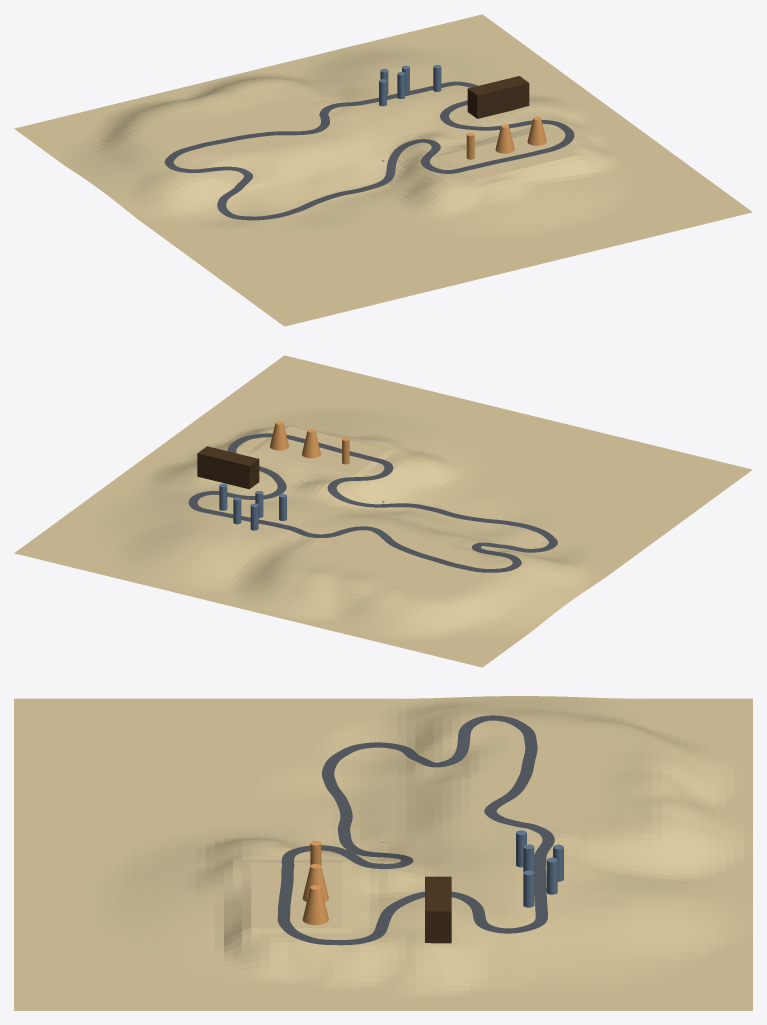
File: bikini_bottom_test_track.glb
The picture shows the model from 3 angles, top to bottom: view 1: azimuth 30°, elevation 25°; view 2: azimuth 150°, elevation 25°; view 3: azimuth 270°, elevation 25°; orthographic projection. The views are drawn at different scales.
Parts seen in each view (by area): view 1: Seabed, BikiniBottom_test_v1, Krusty Krab; view 2: Seabed, BikiniBottom_test_v1, Krusty Krab; view 3: Seabed, BikiniBottom_test_v1, Krusty Krab, House 3.
Boxes of the visible parts, <box> form: Seabed: <box>14,14,752,326</box>; BikiniBottom_test_v1: <box>164,81,574,220</box>; Krusty Krab: <box>467,76,529,118</box>; Seabed: <box>14,355,752,667</box>; BikiniBottom_test_v1: <box>188,433,557,572</box>; Krusty Krab: <box>197,446,259,489</box>; Seabed: <box>14,696,752,1010</box>; BikiniBottom_test_v1: <box>277,715,554,945</box>; Krusty Krab: <box>425,876,451,943</box>; House 3: <box>302,885,328,924</box>.
Size of the model in its own units: 600 by 53.27 by 600.
